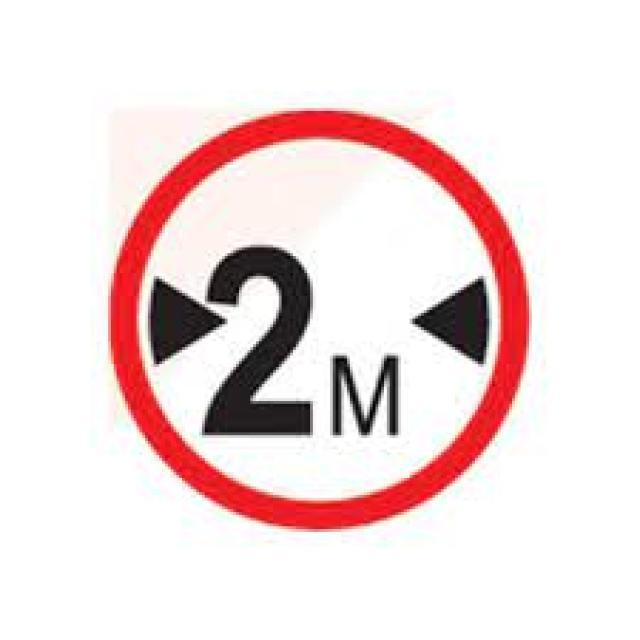width limit: (106, 106, 525, 532)
